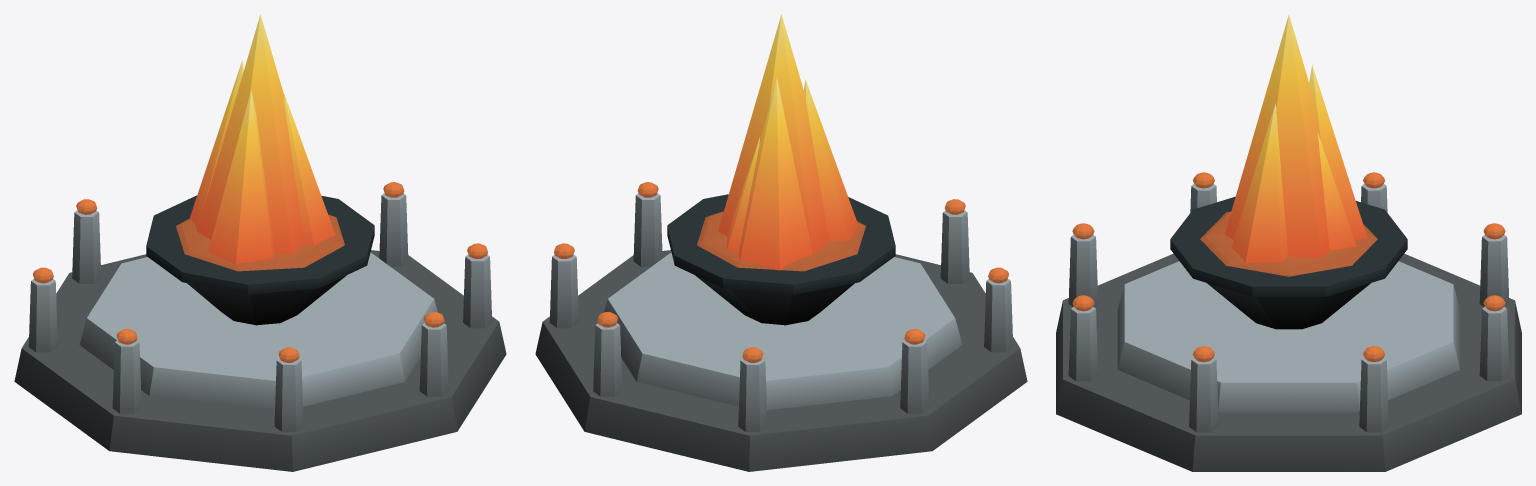
File: hearth.glb
3 renders of one model, left to right at view 1: azimuth 30°, elevation 25°; view 2: azimuth 150°, elevation 25°; view 3: azimuth 270°, elevation 25°, orthographic.
Parts seen in each view (by area): view 1: hearth; view 2: hearth; view 3: hearth.
Part boxes in pixels (x1,y1,x2,y2): hearth: (14, 14, 506, 471); hearth: (535, 14, 1027, 471); hearth: (1056, 15, 1521, 471).
Size of the model in its own units: 6.28 by 5.35 by 6.28.
Materials: 4 (4 with a texture image).
